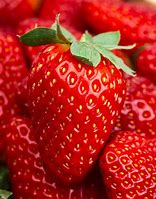Fresa: (24, 39, 127, 185), (1, 114, 105, 199), (98, 129, 156, 199)
